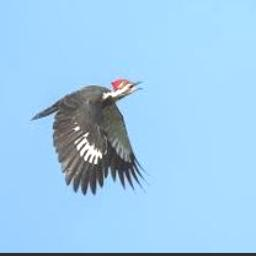Woodpecker: (31, 78, 150, 197)
